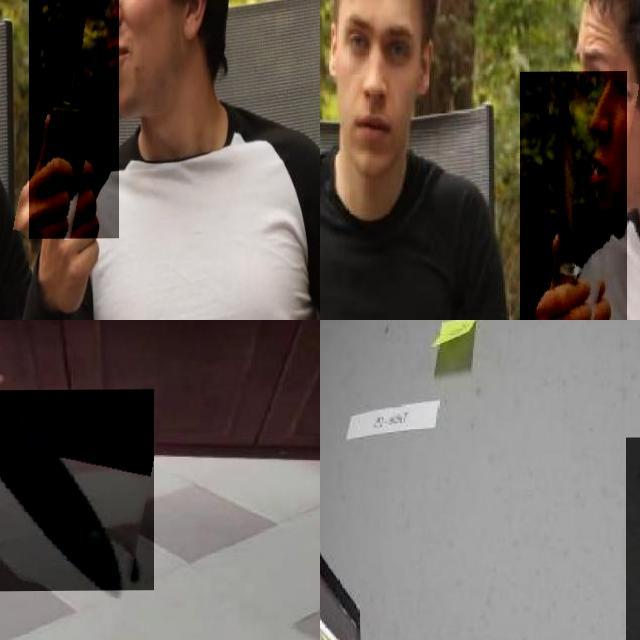-: (0, 389, 153, 592), (520, 71, 626, 320), (29, 0, 118, 239)
